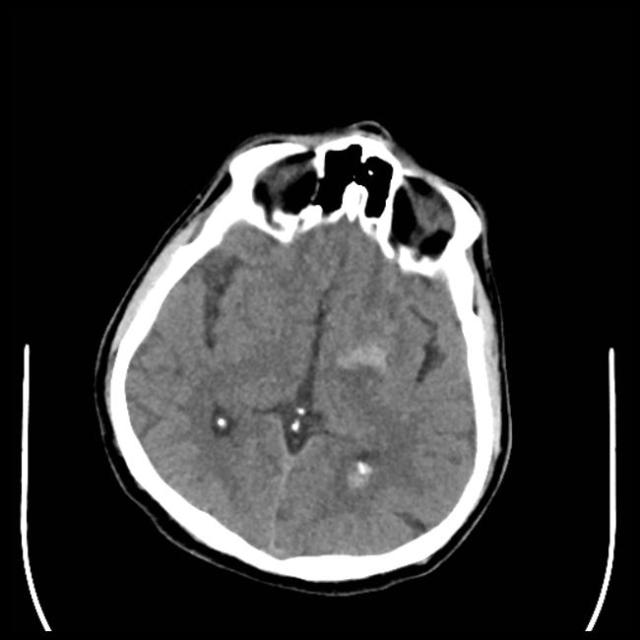lesion: (93, 118, 515, 589)
